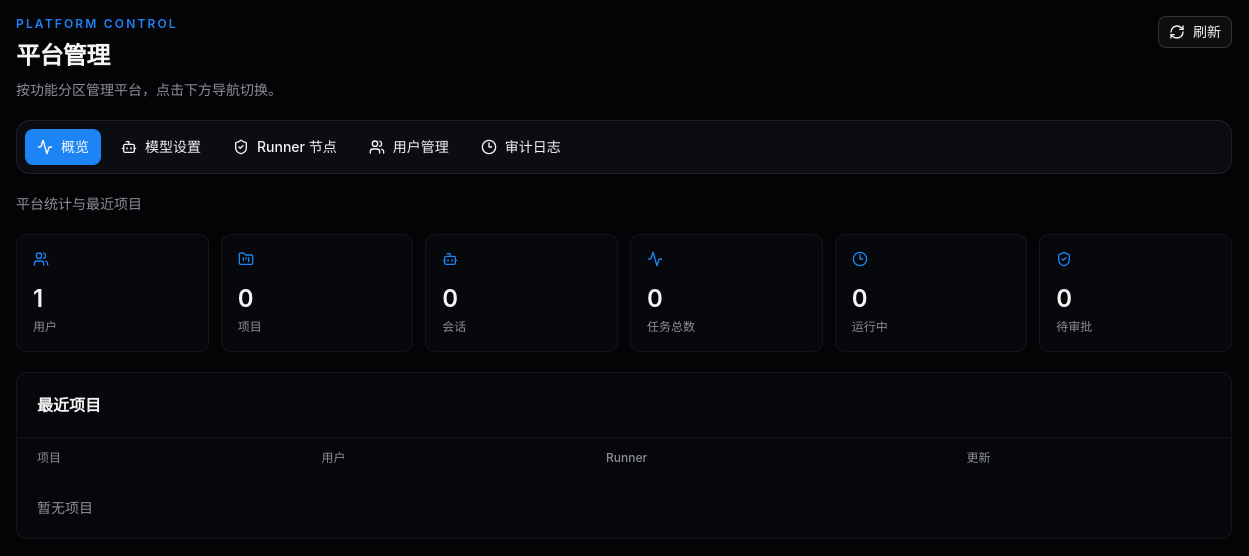
Test: shows one functional section at a time, with overview selected initially
Expected: the heading "最近项目" is shown, [37,395,101,415]
Expected: the heading "用户与密码重置" is not shown
Click the button "Runner 节点". click: (285, 147)
box: [221,129,349,165]
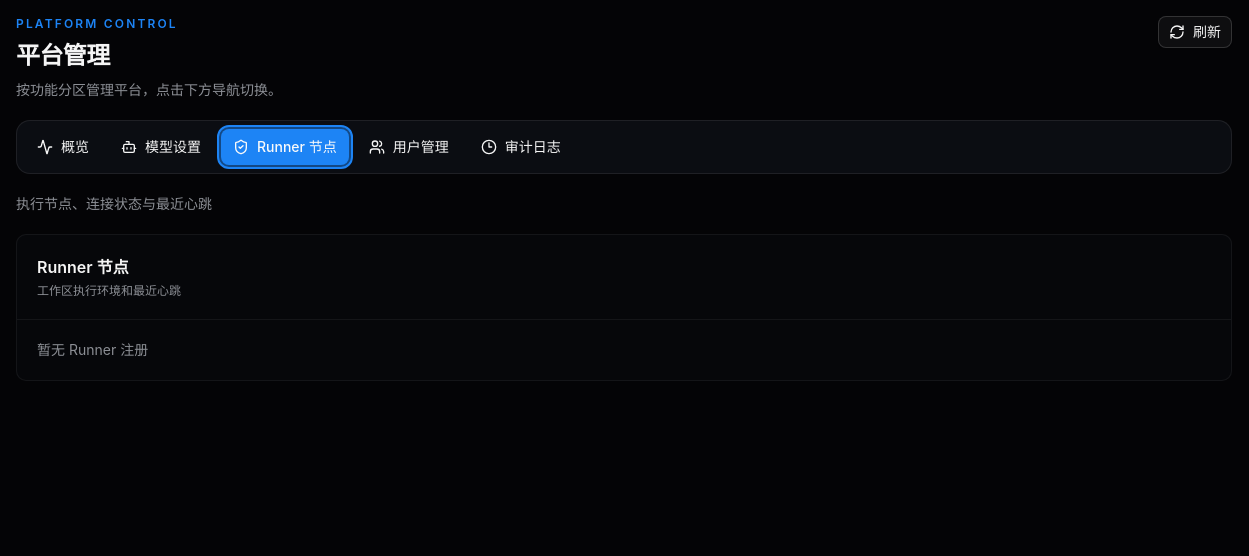
Expected: the heading "Runner 节点" is shown, [37,257,129,277]
Click the button "用户管理". click: (409, 147)
box: [357,129,461,165]
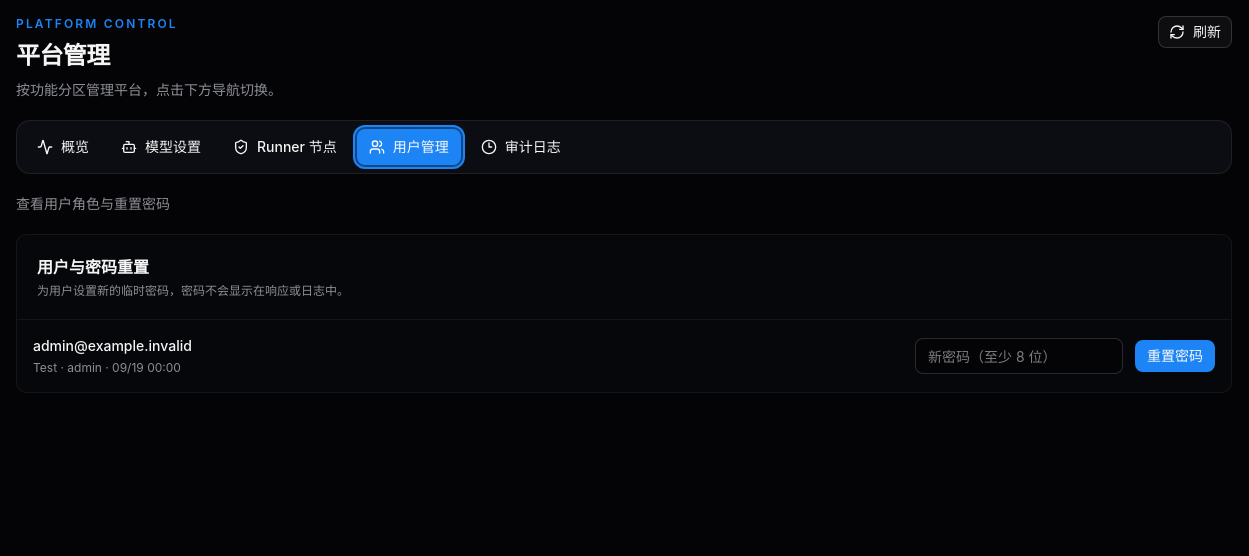
Expected: the heading "用户与密码重置" is shown, [37,257,149,277]
Click the button "审计日志". click: (521, 147)
box: [469,129,573,165]
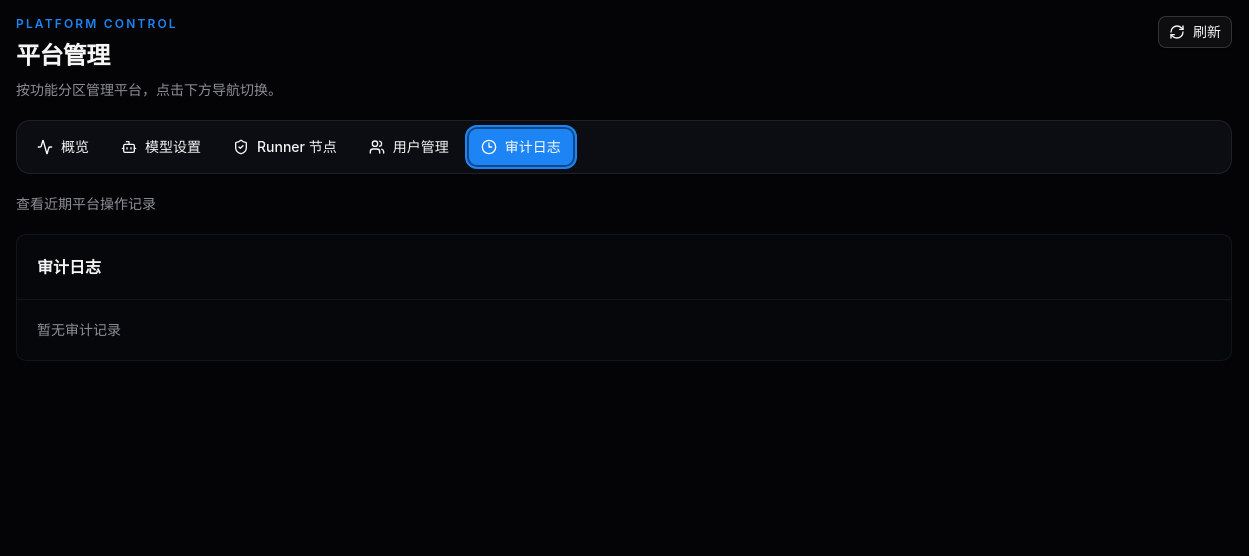
Expected: the heading "审计日志" is shown, [37,257,101,277]
